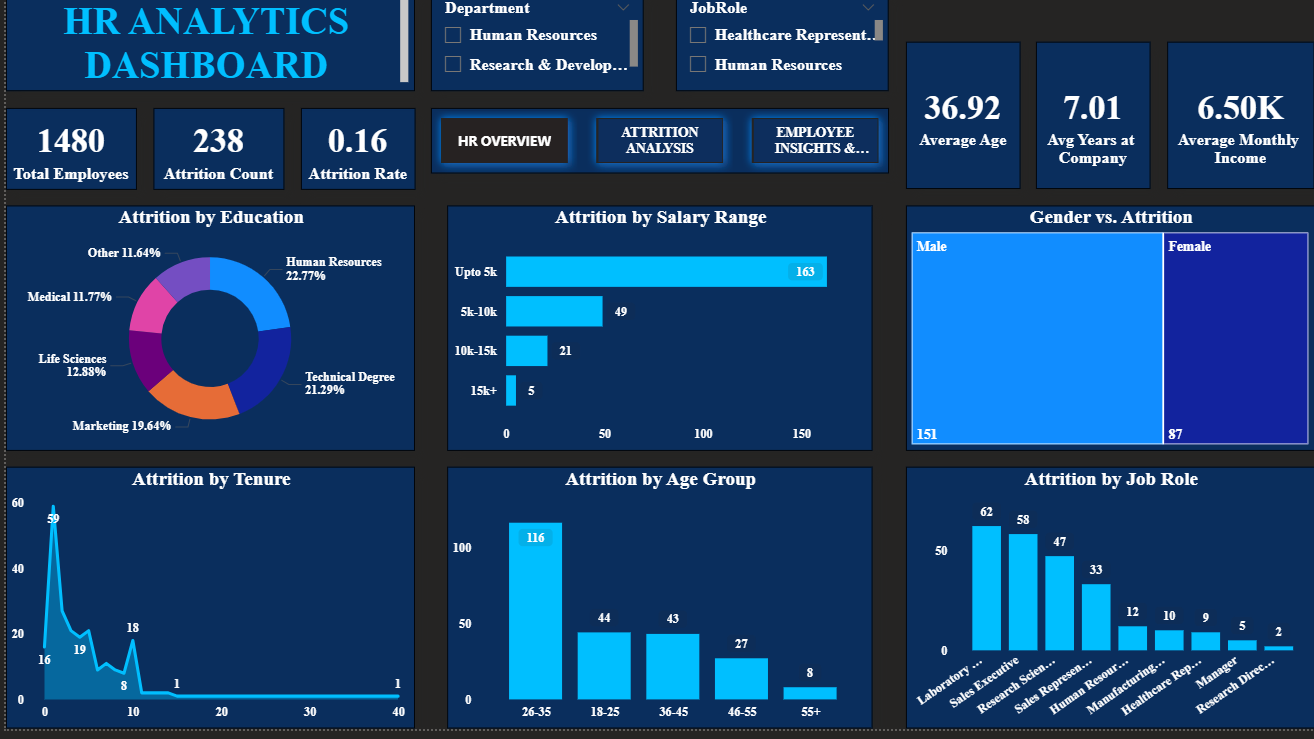

This screenshot's page, from the dashboard's own definition file:
{"tool":"powerbi","page":{"name":"HR OVERVIEW","canvas":[1280,720],"ordinal":0},"visuals":[{"type":"card","fields":{"Values":["HR_Analytics.Total Employees"]},"box":[0,112,128,80],"z":0},{"type":"card","fields":{"Values":["HR_Analytics.Attrition Count"]},"box":[144,112,128,80],"z":1000},{"type":"card","fields":{"Values":["HR_Analytics.Attrition Rate"]},"box":[288,112,112,80],"z":2000},{"type":"card","fields":{"Values":["HR_Analytics.Average Age"]},"box":[880,48,112,144],"z":3000},{"type":"card","fields":{"Values":["HR_Analytics.Avg Years at Company"]},"box":[1008,48,112,144],"z":4000},{"type":"card","fields":{"Values":["HR_Analytics.Average Monthly Income"]},"box":[1136,48,144,144],"z":5000},{"type":"donutChart","title":"Attrition by Education","fields":{"Category":["HR_Analytics.EducationField"],"Y":["HR_Analytics.Attrition Rate"]},"box":[0,208,400,240],"z":6000},{"type":"areaChart","title":"Attrition by Tenure","fields":{"Category":["HR_Analytics.YearsAtCompany"],"Y":["HR_Analytics.Attrition Count"]},"box":[0,464,400,256],"z":7000},{"type":"barChart","title":"Attrition by Salary Range","fields":{"Category":["HR_Analytics.SalarySlab"],"Y":["HR_Analytics.Attrition Count"]},"box":[432,208,416,240],"z":8000},{"type":"columnChart","title":"Attrition by Age Group","fields":{"Y":["HR_Analytics.Attrition Count"],"Category":["HR_Analytics.AgeGroup"]},"box":[432,464,416,256],"z":9000},{"type":"treemap","title":"Gender vs. Attrition","fields":{"Group":["HR_Analytics.Gender"],"Values":["HR_Analytics.Attrition Count"]},"box":[880,208,400,240],"z":10000},{"type":"columnChart","title":"Attrition by Job Role","fields":{"Y":["HR_Analytics.Attrition Count"],"Category":["HR_Analytics.JobRole"]},"box":[880,464,400,256],"z":11000},{"type":"textbox","box":[0,0,400,96],"z":11001},{"type":"pageNavigator","box":[416,112,448,64],"z":11002},{"type":"slicer","fields":{"Values":["HR_Analytics.Department"]},"box":[416,0,208,96],"z":11003},{"type":"slicer","fields":{"Values":["HR_Analytics.JobRole"]},"box":[656,0,208,96],"z":11004}]}

Visuals, with their boxes in screenshot pixels (x1, y1, x2, y2), scaled from the page's 1280x720 canvas onto the 1314x739 screenshot:
card - HR_Analytics.Total Employees: rect(0, 115, 131, 197)
card - HR_Analytics.Attrition Count: rect(148, 115, 279, 197)
card - HR_Analytics.Attrition Rate: rect(296, 115, 411, 197)
card - HR_Analytics.Average Age: rect(903, 49, 1018, 197)
card - HR_Analytics.Avg Years at Company: rect(1035, 49, 1150, 197)
card - HR_Analytics.Average Monthly Income: rect(1166, 49, 1313, 197)
"Attrition by Education" donutChart: rect(0, 213, 411, 460)
"Attrition by Tenure" areaChart: rect(0, 476, 411, 738)
"Attrition by Salary Range" barChart: rect(443, 213, 871, 460)
"Attrition by Age Group" columnChart: rect(443, 476, 871, 738)
"Gender vs. Attrition" treemap: rect(903, 213, 1313, 460)
"Attrition by Job Role" columnChart: rect(903, 476, 1313, 738)
textbox: rect(0, 0, 411, 99)
pageNavigator: rect(427, 115, 887, 181)
slicer - HR_Analytics.Department: rect(427, 0, 641, 99)
slicer - HR_Analytics.JobRole: rect(673, 0, 887, 99)
